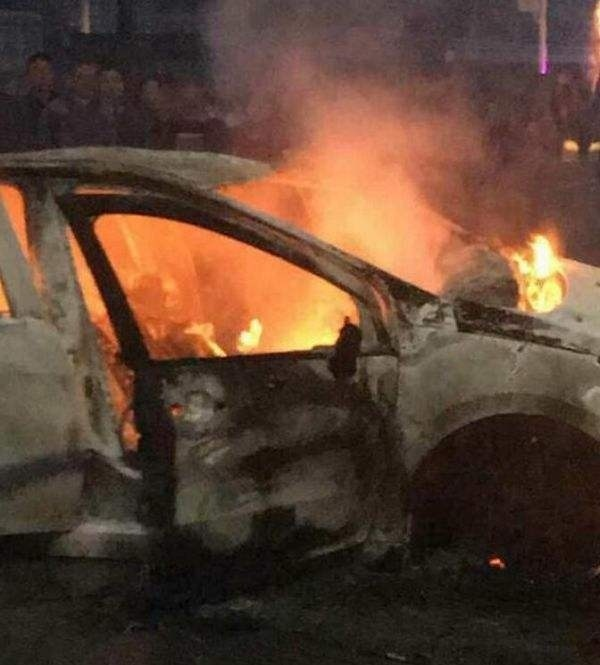fire: (495, 227, 569, 314), (486, 551, 506, 568)
